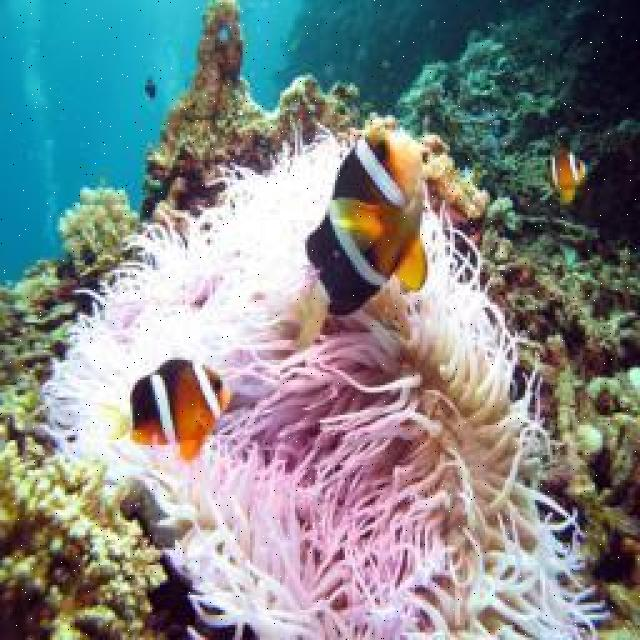fish: (284, 131, 429, 351), (91, 359, 233, 460), (544, 146, 586, 206)
reefs: (40, 134, 611, 638)
